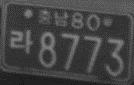0: (86, 12, 100, 32)
3: (104, 37, 125, 76)
7: (80, 35, 103, 76), (60, 32, 80, 71)
8: (38, 31, 57, 68), (70, 11, 84, 30)
라: (9, 28, 33, 54)
충남_O: (37, 8, 69, 28)
